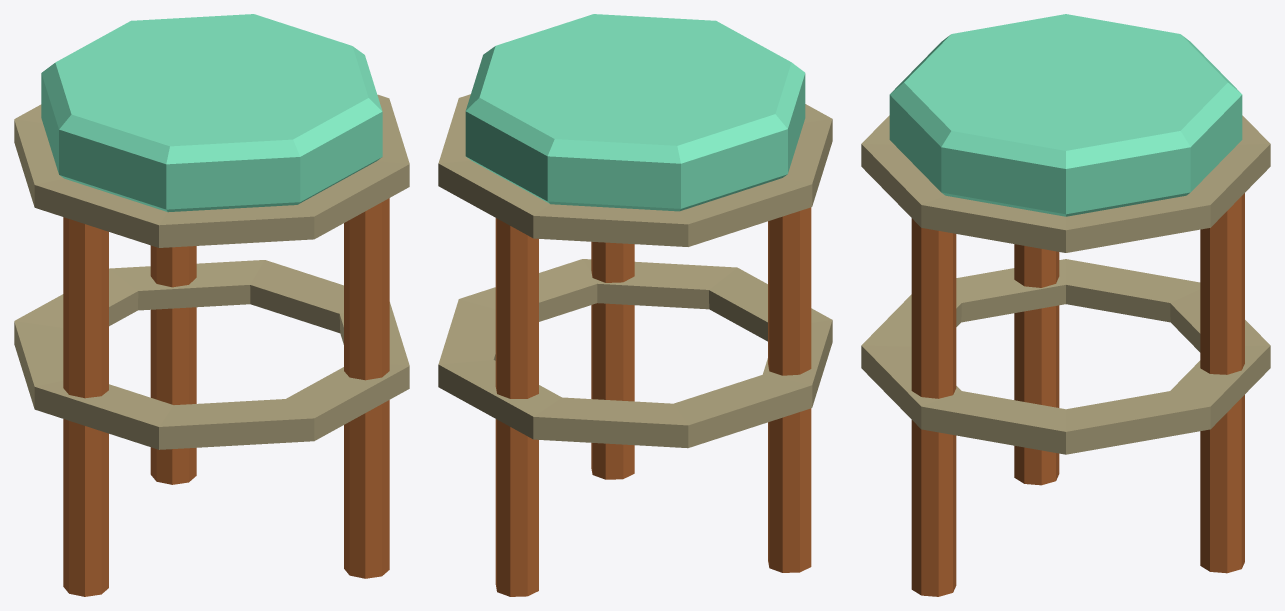
File: стул.fbx
3 renders of one model, left to right at view 1: azimuth 30°, elevation 25°; view 2: azimuth 150°, elevation 25°; view 3: azimuth 270°, elevation 25°, orthographic.
Parts seen in each view (by area): view 1: Стул; view 2: Стул; view 3: Стул.
Part boxes in pixels (x1,y1,x2,y2): Стул: (14,14,409,596); Стул: (438,14,832,596); Стул: (861,14,1270,596).
Size of the model in its own units: 2.8 by 3.49 by 2.8.
